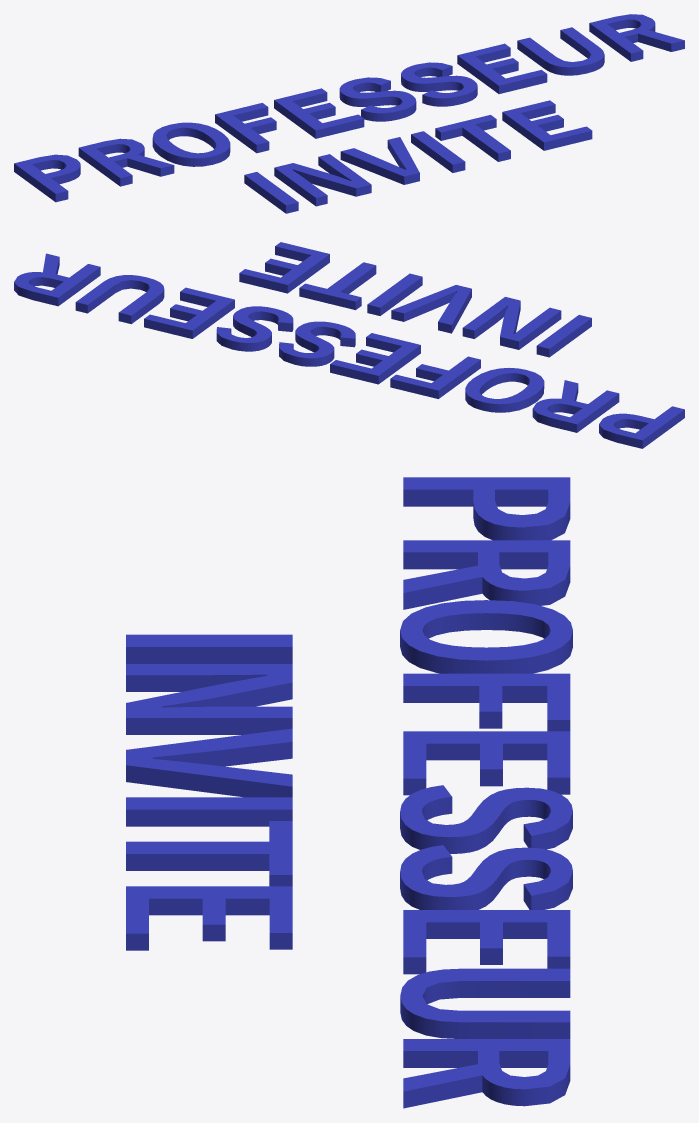
Rendered from professeurinvite.fbx.
The picture shows the model from 3 angles, top to bottom: view 1: azimuth 30°, elevation 25°; view 2: azimuth 150°, elevation 25°; view 3: azimuth 270°, elevation 25°; orthographic projection. The views are drawn at different scales.
Parts seen in each view (by area): view 1: node_id416 (×2); view 2: node_id416 (×2); view 3: node_id416 (×2).
Part boxes in pixels (left/top/right/bottom): node_id416 (×2): left=14, top=14, right=684, bottom=213; node_id416 (×2): left=14, top=242, right=684, bottom=448; node_id416 (×2): left=126, top=477, right=572, bottom=1108.
Size of the model in its own units: 1.46 by 0.0188 by 0.4493.
